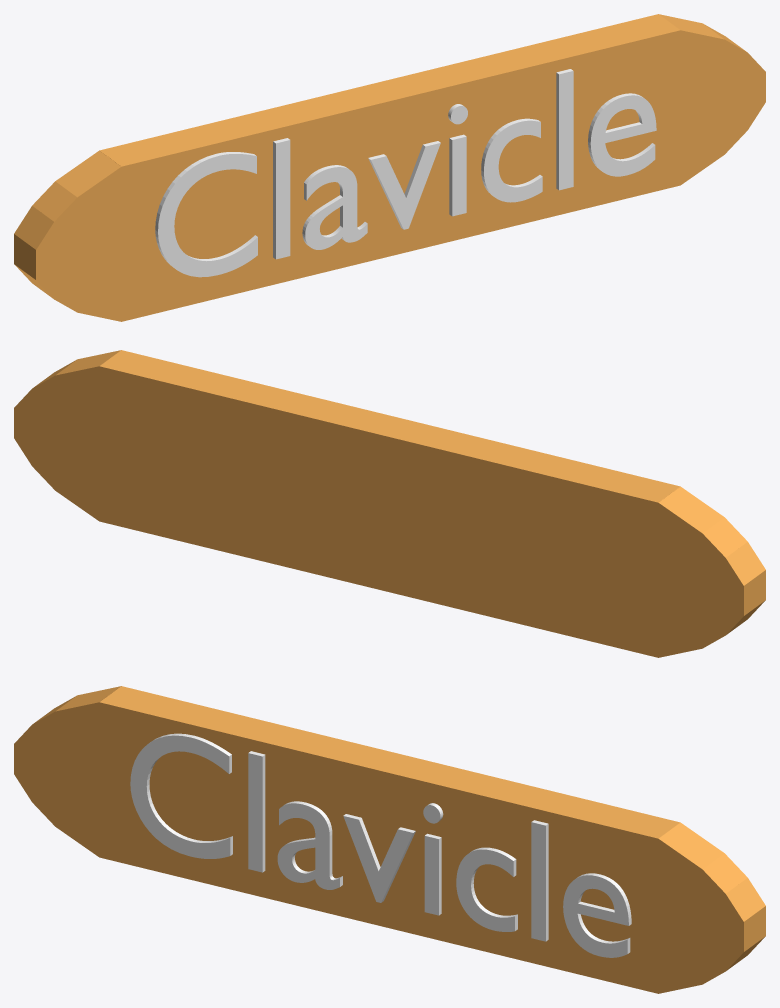
The model's file is txtClavicle.fbx.
3 renders of one model, top to bottom at view 1: azimuth 30°, elevation 25°; view 2: azimuth 150°, elevation 25°; view 3: azimuth 330°, elevation 25°, orthographic.
Visible parts, largest first — view 1: TagContainer.005, Text.005; view 2: TagContainer.005; view 3: TagContainer.005, Text.005.
Part boxes in pixels (<box>): TagContainer.005: <box>14,14,765,321</box>; Text.005: <box>155,69,656,277</box>; TagContainer.005: <box>14,350,765,657</box>; TagContainer.005: <box>14,686,765,993</box>; Text.005: <box>130,733,631,957</box>.
Size of the model in its own units: 203 by 41.3 by 12.
